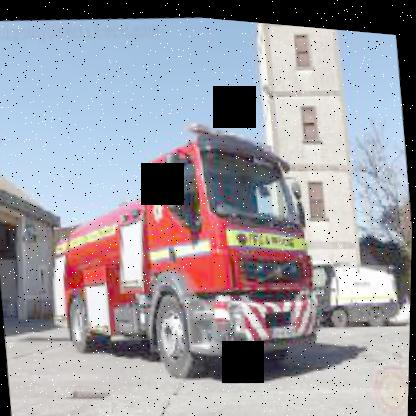emergency: (31, 90, 331, 400)
not_emergency: (292, 234, 407, 331)
